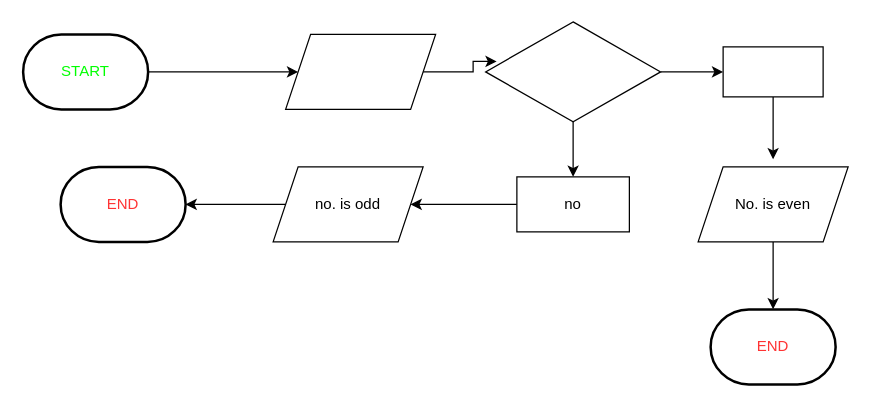
The diagram is 870 pixels wide and 408 high, and some of its shapes have lost their labels. Here are the shapes that lost their labels. From the top down, the box of each, then its label:
(284, 33, 436, 109): input = no.
(484, 21, 661, 122): Does no. end in 0, 2,4,6,8
(722, 46, 823, 97): yes
